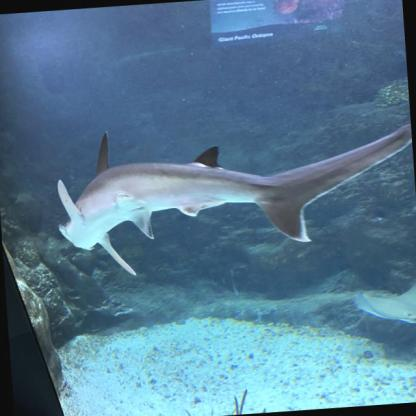shark: (49, 109, 416, 282)
stingray: (354, 274, 416, 330)
